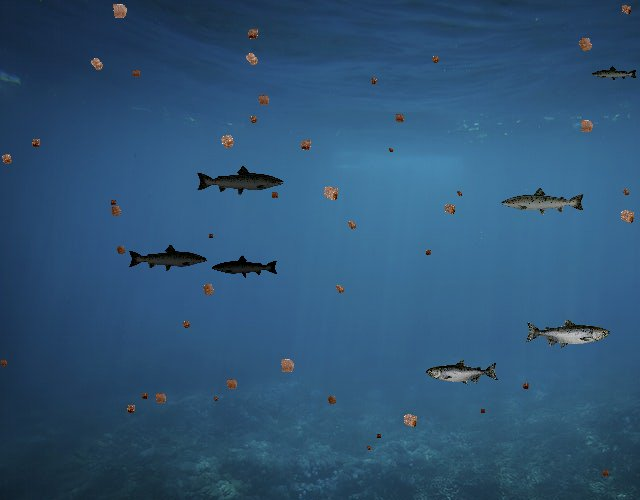Fish: (195, 165, 285, 197), (500, 186, 586, 217), (524, 318, 610, 349), (127, 243, 208, 273), (427, 360, 500, 386), (211, 255, 279, 279), (592, 65, 639, 82)
Pellet: (104, 0, 134, 26), (242, 23, 264, 45), (0, 148, 18, 170), (342, 216, 361, 235), (391, 109, 408, 127), (518, 379, 532, 393), (422, 246, 435, 259), (107, 196, 119, 208), (210, 394, 220, 404)
